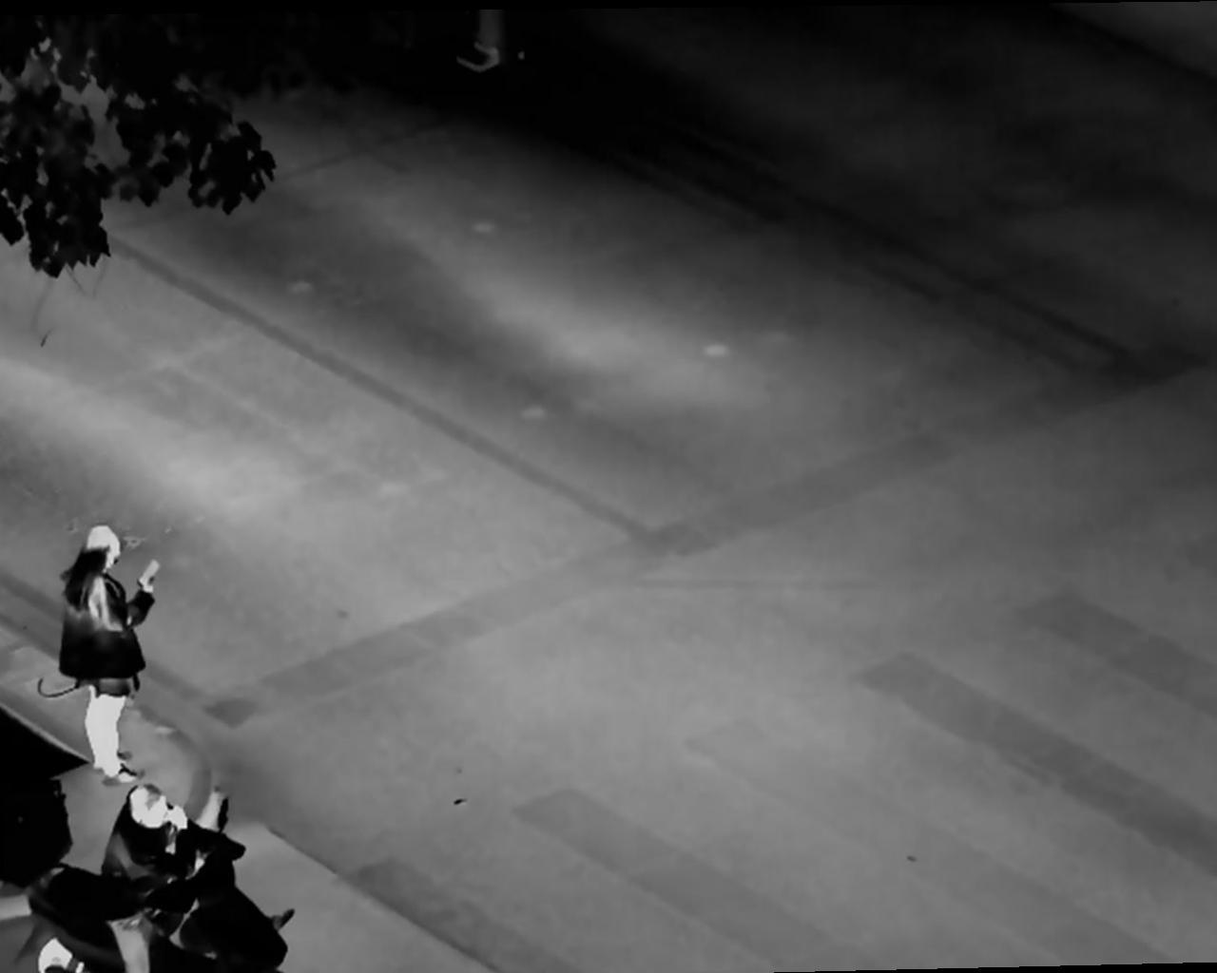person: (59, 520, 175, 777), (98, 788, 229, 962)
